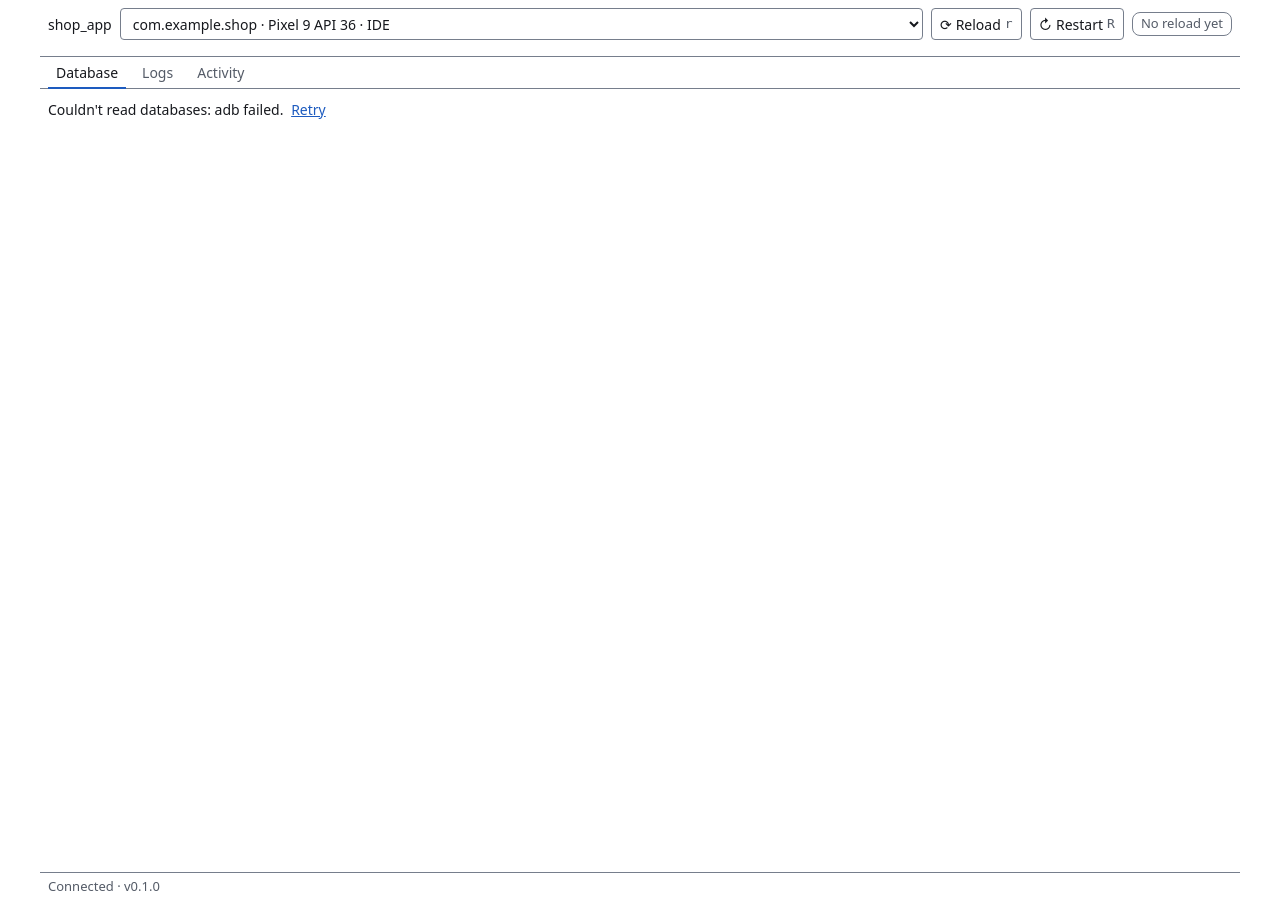
it: Database picker › Error: "Couldn't read databases: <reason>. Retry"
Expected: the message "Couldn't read databases: adb failed. Retry" is shown, [48, 97, 330, 121]
Click the button "Retry" at {"x": 308, "y": 109}, box [287, 97, 330, 121]
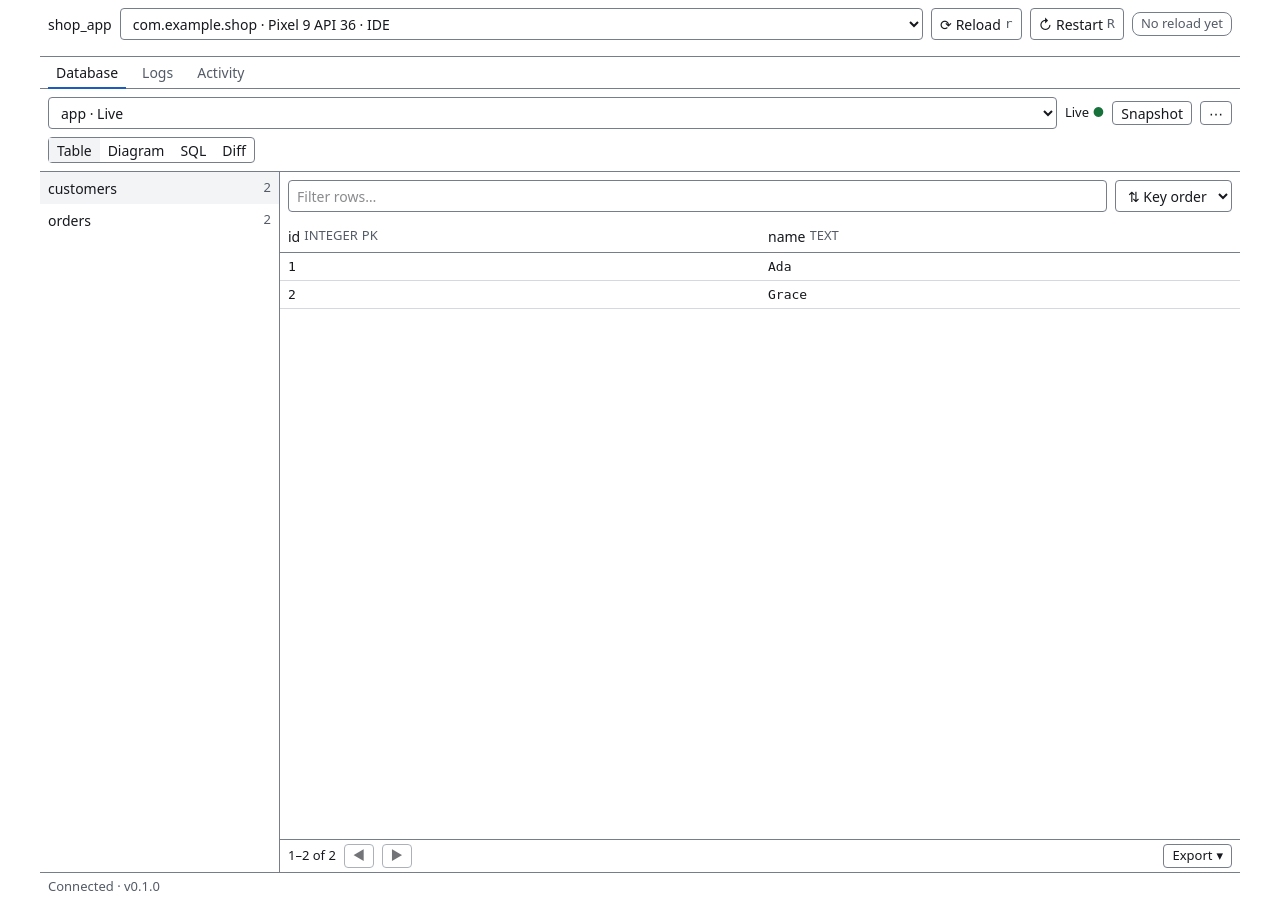
Now the dropdown named "Database" shows "app · Live", box [48, 97, 1057, 129]
